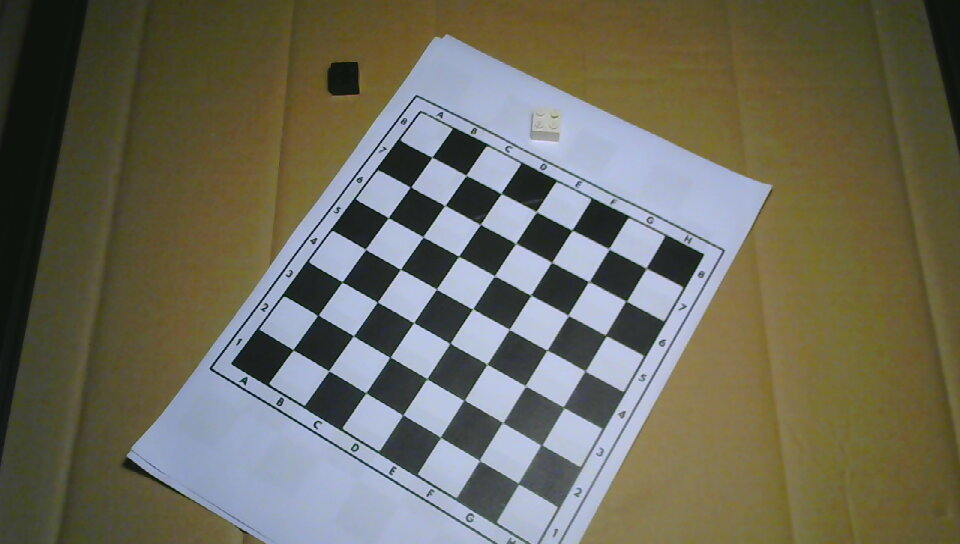bp: (329, 61, 360, 96)
wp: (531, 107, 562, 142)
